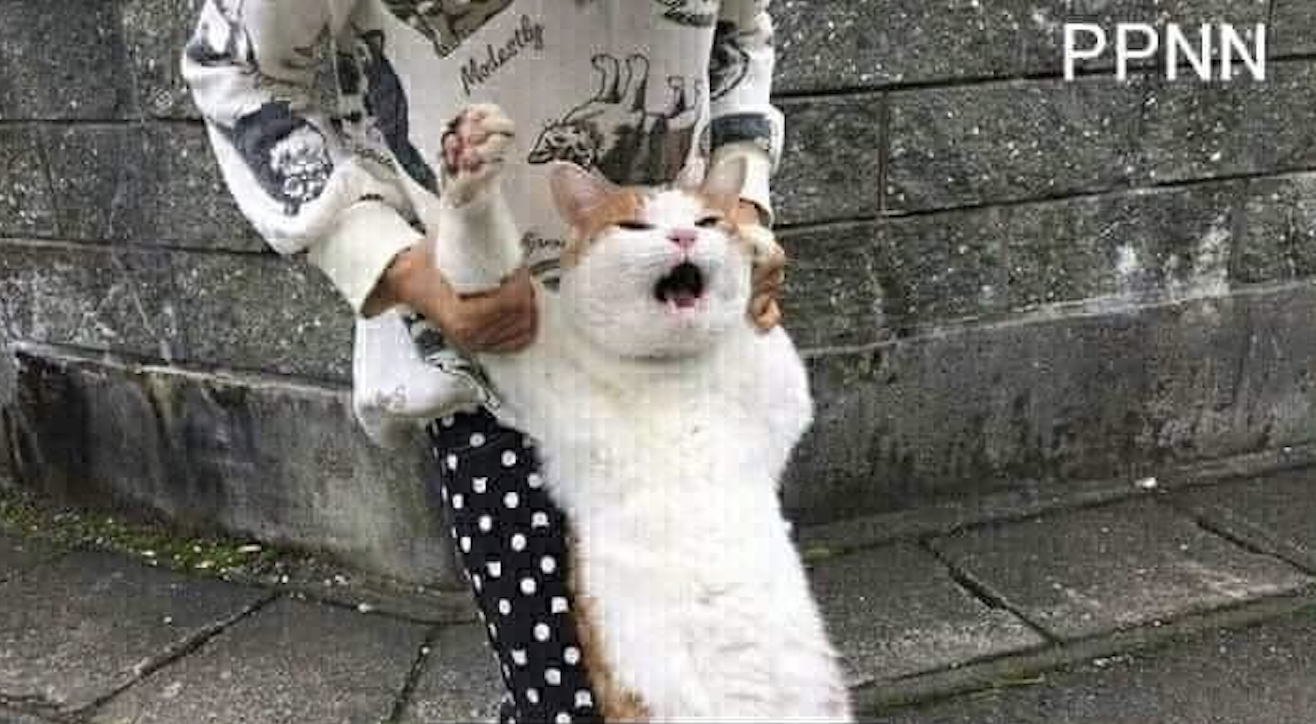cat: (449, 111, 846, 724)
